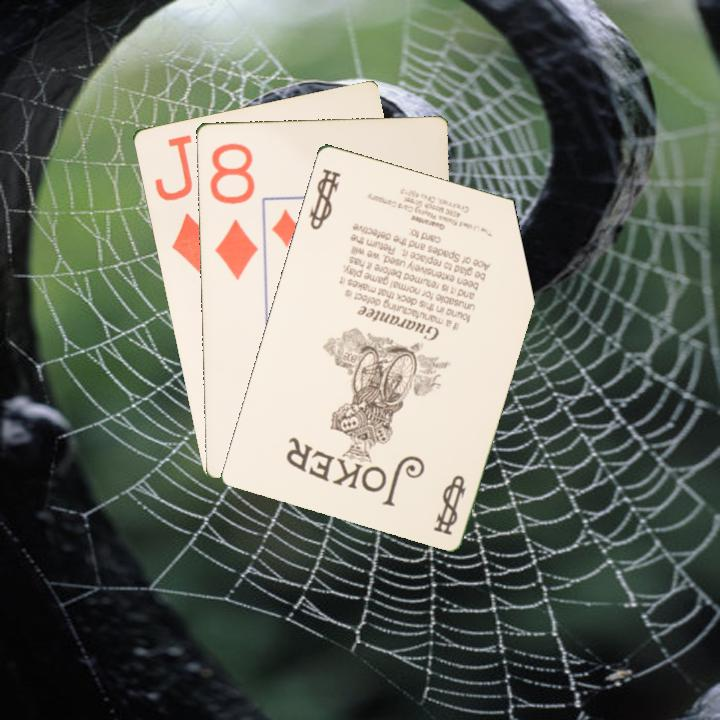8d: (206, 139, 260, 282)
JK: (429, 470, 469, 538), (304, 165, 343, 232)
Jd: (150, 130, 217, 275)
